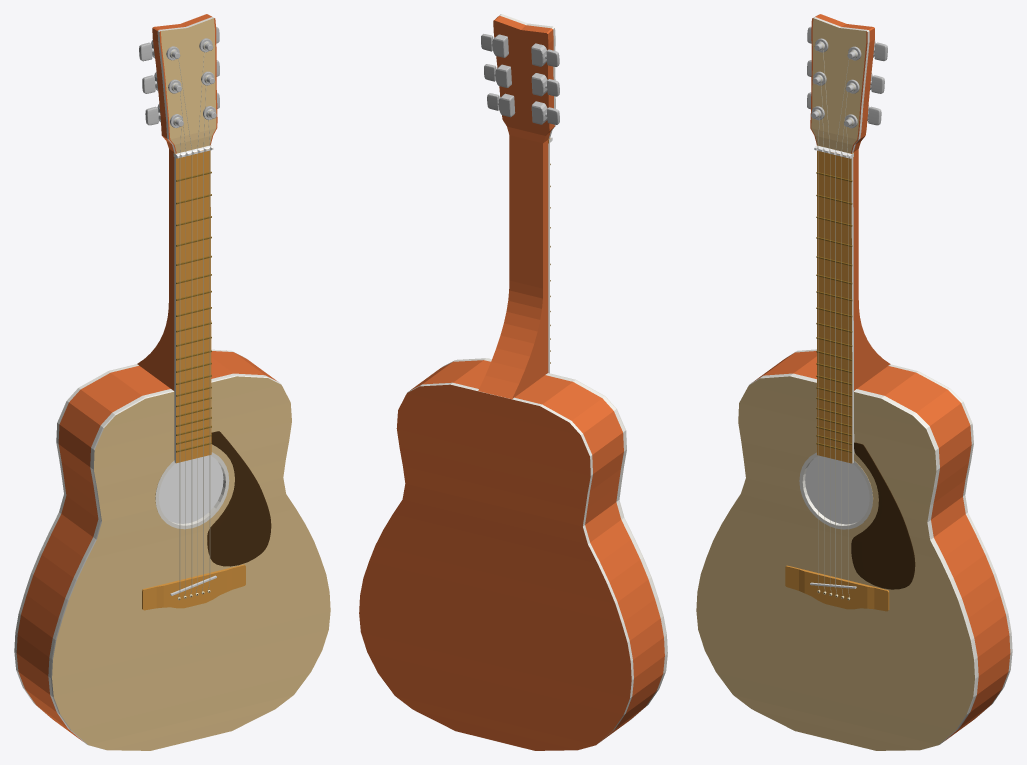
Rendered from Guitar.glb.
3 views of the same model, side by side, from view 1: azimuth 30°, elevation 25°; view 2: azimuth 150°, elevation 25°; view 3: azimuth 330°, elevation 25° (orthographic). The views are drawn at different scales.
Visible parts, largest first — view 1: Plane, Plane.001, Plane.003, Plane.005, Circle.001, Plane.002, Cube.009, Cube.002, Cylinder; view 2: Plane, Plane.003, Cube.002; view 3: Plane, Plane.001, Plane.003, Plane.005, Circle.001, Plane.002, Cube.009, Cube.002, Cylinder.
Part boxes in pixels (x1,y1,x2,y2): Plane: [14, 349, 330, 750]; Plane.001: [173, 145, 213, 463]; Plane.003: [137, 14, 217, 390]; Plane.005: [207, 431, 271, 566]; Circle.001: [170, 42, 213, 596]; Plane.002: [142, 564, 245, 610]; Cube.009: [176, 171, 211, 452]; Cube.002: [139, 26, 219, 125]; Cylinder: [166, 38, 216, 127]; Plane: [359, 358, 667, 750]; Plane.003: [478, 14, 555, 399]; Cube.002: [481, 34, 559, 124]; Plane: [696, 349, 1012, 750]; Plane.001: [814, 145, 854, 463]; Plane.003: [810, 14, 890, 390]; Plane.005: [851, 442, 915, 589]; Circle.001: [814, 42, 856, 596]; Plane.002: [785, 565, 889, 611]; Cube.009: [816, 172, 852, 452]; Cube.002: [807, 26, 887, 125]; Cylinder: [811, 38, 861, 128].
Size of the model in its own units: 4.12 by 10.07 by 1.12.
